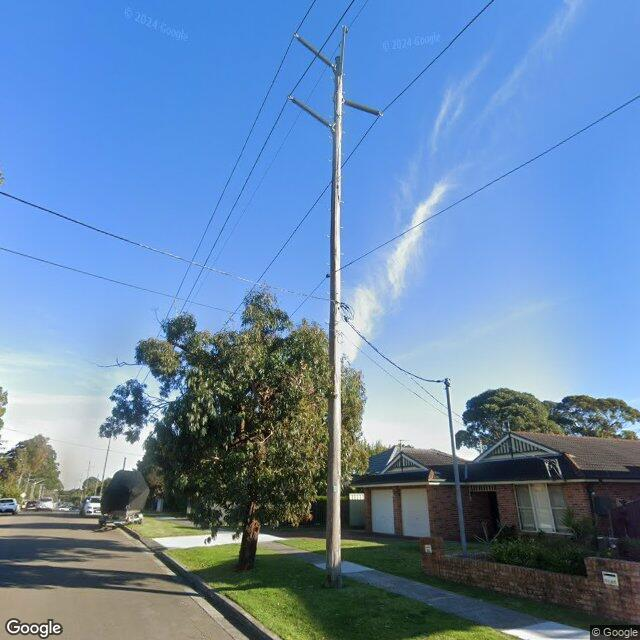HV-transmission: (286, 26, 379, 132)
steel-pole: (445, 378, 467, 556)
timber-pole: (326, 56, 343, 588), (100, 436, 112, 496)
